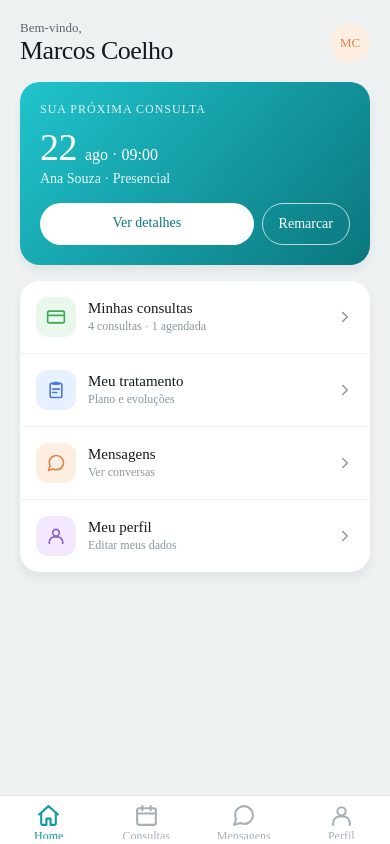
Test: Home do paciente (#38) › "home-ver-detalhes" abre o detalhe da próxima consulta
The image size is (390, 844).
Click the button with test id "home-ver-detalhes" at (147, 224), box [40, 203, 254, 245]
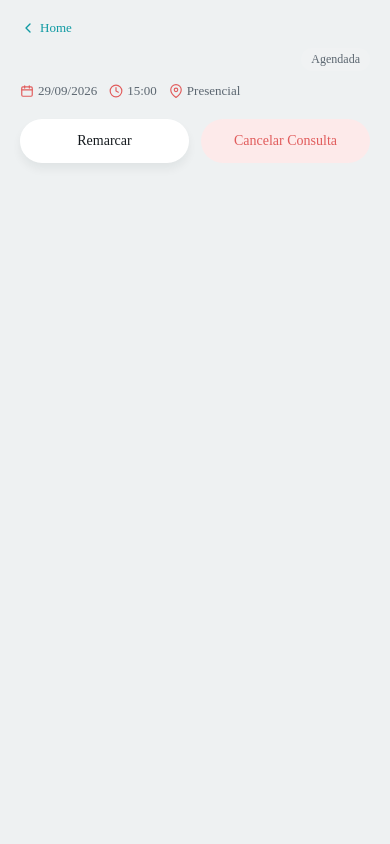
expect the button with aria-label "Voltar para Home" is shown: met, box [20, 16, 72, 40]
expect the element with test id "consulta-paciente" is shown: met, box [20, 48, 370, 163]
